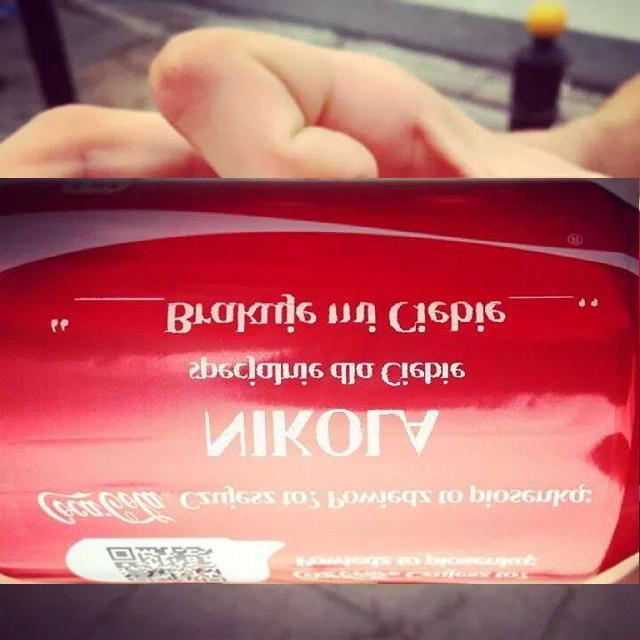coca-cola: (0, 178, 639, 584)
